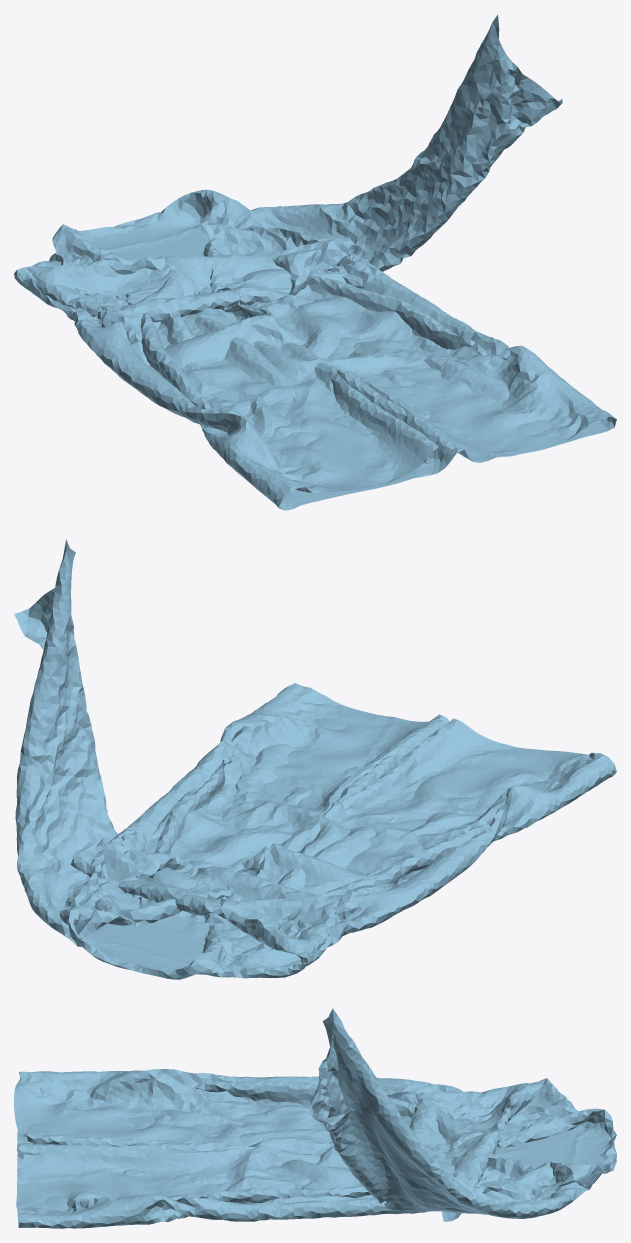
The model's file is frame_07.glb.
3 renders of one model, top to bottom at view 1: azimuth 30°, elevation 25°; view 2: azimuth 150°, elevation 25°; view 3: azimuth 270°, elevation 25°, orthographic. The views are drawn at different scales.
Visible parts, largest first — view 1: frame_07.obj; view 2: frame_07.obj; view 3: frame_07.obj.
Part boxes in pixels (bbox=[...]): frame_07.obj: bbox=[14, 15, 616, 510]; frame_07.obj: bbox=[14, 539, 616, 979]; frame_07.obj: bbox=[14, 1008, 616, 1228].
Bounding box in the file's own units: 1.28 × 0.7524 × 1.65.
